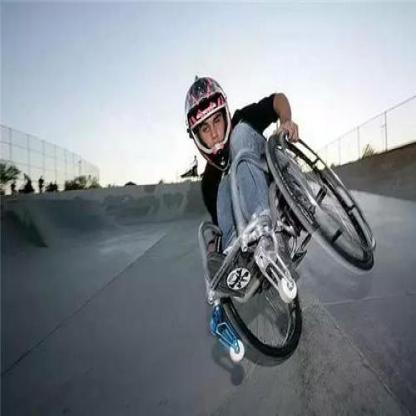wheelchair: (179, 70, 380, 380)
